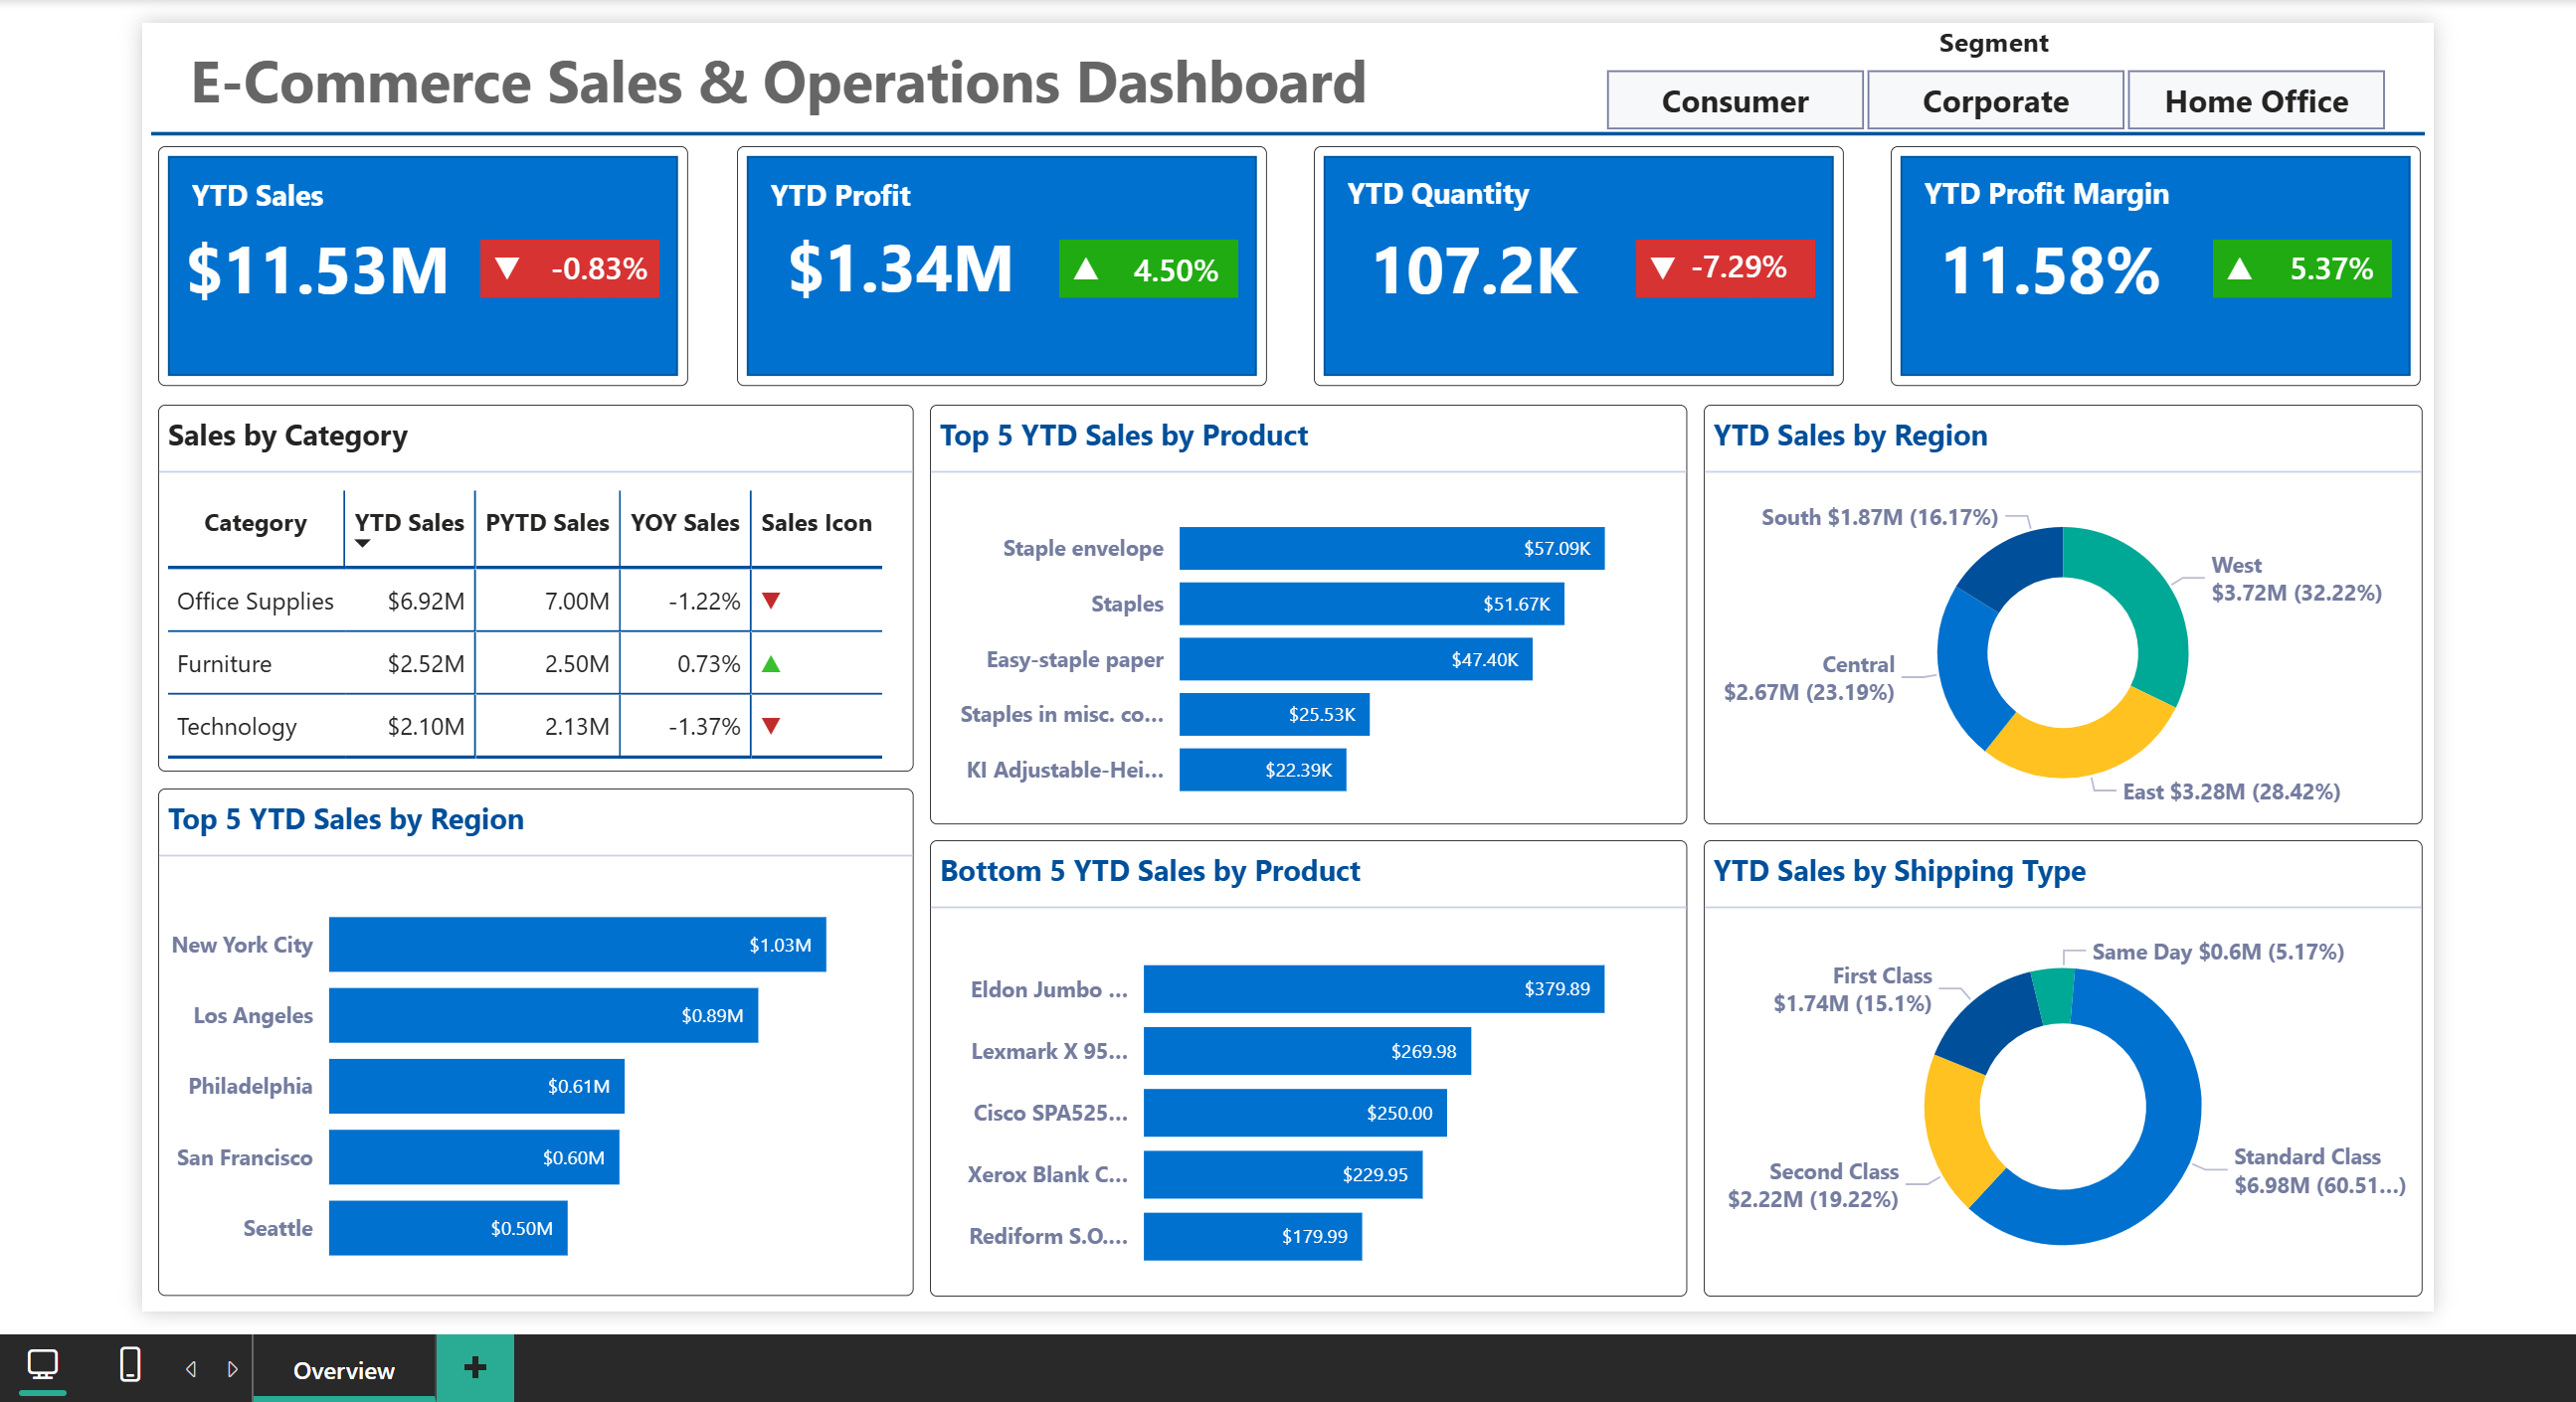

The page's visual inventory and layout, read from the dashboard file:
{"tool":"powerbi","page":{"name":"Overview","canvas":[1280,720],"ordinal":0},"visuals":[{"type":"textbox","box":[16.7,0,682.1,62.8],"z":0},{"type":"shape","box":[976.6,68.8,295.8,133.9],"z":0,"group":"g1"},{"type":"shape","box":[0,56.1,1280,12.7],"z":1000},{"type":"shape","box":[9.1,69.1,295.8,133.9],"z":1000,"group":"g3"},{"type":"card","title":"YTD Sales","fields":{"Values":["ecommerce_data.YTD Profit Margin"]},"box":[976.6,91.8,168.3,89.2],"z":1000,"group":"g1"},{"type":"group","id":"g1","title":"Group 1","box":[976.6,68.8,295.8,133.9],"z":2000},{"type":"card","title":"YTD Sales","fields":{"Values":["ecommerce_data.YTD Sales"]},"box":[9.1,92,168.3,89.2],"z":2000,"group":"g3"},{"type":"shape","box":[1156.1,120.8,100,32.5],"z":2000,"group":"g1"},{"type":"group","id":"g2","title":"Group 2","box":[654.2,69.4,295.8,133.9],"z":3000},{"type":"card","title":"YTD Sales","fields":{"Values":["ecommerce_data.YOY Profit Margin"]},"box":[1180,122.6,76.6,32.5],"z":3000,"group":"g1"},{"type":"group","id":"g3","title":"Group 4","box":[9.1,69.1,296.1,133.8],"z":4000},{"type":"shape","box":[188.6,121,100,32.5],"z":4000,"group":"g3"},{"type":"card","title":"YTD Sales","fields":{"Values":["ecommerce_data.Profit Margin Icon"]},"box":[1156.1,122.1,29.9,32.5],"z":4000,"group":"g1"},{"type":"group","id":"g4","title":"Group 3","box":[331.8,68.5,295.8,133.9],"z":5000},{"type":"textbox","box":[985.2,73.2,171.4,46.8],"z":5000,"group":"g1"},{"type":"card","title":"YTD Sales","fields":{"Values":["ecommerce_data.YOY Sales"]},"box":[212,122.3,76.6,32.5],"z":5000,"group":"g3"},{"type":"card","title":"YTD Sales","fields":{"Values":["ecommerce_data.Sales Icon"]},"box":[188.6,122.3,29.9,32.5],"z":6000,"group":"g3"},{"type":"pivotTable","title":"Sales by Category","fields":{"Rows":["ecommerce_data.category_name"],"Values":["ecommerce_data.YTD Sales","ecommerce_data.PYTD Sales","ecommerce_data.YOY Sales","ecommerce_data.Sales Icon"]},"box":[9.1,213,422.1,205.2],"z":6000},{"type":"textbox","box":[18.5,74.3,106.5,46.8],"z":7000,"group":"g3"},{"type":"barChart","title":"Top 5 YTD Sales by Region ","fields":{"Y":["ecommerce_data.YTD Sales"],"Category":["ecommerce_data.customer_city"]},"box":[9,428.2,421.8,283.3],"z":7000},{"type":"shape","box":[331.8,68.5,295.8,133.9],"z":8000,"group":"g4"},{"type":"barChart","title":"Top 5 YTD Sales by Product","fields":{"Category":["ecommerce_data.product_name"],"Y":["ecommerce_data.YTD Sales"]},"box":[439.7,212.8,423.1,234.6],"z":8000},{"type":"card","title":"YTD Sales","fields":{"Values":["ecommerce_data.YTD Profit"]},"box":[337.2,91,171.8,89.7],"z":9000,"group":"g4"},{"type":"barChart","title":"Bottom 5 YTD Sales by Product","fields":{"Category":["ecommerce_data.product_name"],"Y":["ecommerce_data.YTD Sales"]},"box":[439.7,456.4,423.1,255.1],"z":9000},{"type":"shape","box":[511.3,120.4,100,32.5],"z":10000,"group":"g4"},{"type":"donutChart","title":"YTD Sales by Region","fields":{"Category":["ecommerce_data.customer_region"],"Y":["ecommerce_data.YTD Sales"]},"box":[871.8,212.8,401.3,234.6],"z":10000},{"type":"donutChart","title":"YTD Sales by Shipping Type","fields":{"Y":["ecommerce_data.YTD Sales"],"Category":["ecommerce_data.shipping_type"]},"box":[871.8,456.4,401.3,255.1],"z":10001},{"type":"slicer","title":"Segment","fields":{"Values":["ecommerce_data.customer_segment"]},"box":[792.3,0,484.6,62.8],"z":10002},{"type":"textbox","box":[100,100,300,300],"z":10003},{"type":"card","title":"YTD Sales","fields":{"Values":["ecommerce_data.YOY Profit"]},"box":[534.4,123.4,76.6,32.5],"z":11000,"group":"g4"},{"type":"card","title":"YTD Sales","fields":{"Values":["ecommerce_data.Profit Icon"]},"box":[511.3,121.7,29.9,32.5],"z":12000,"group":"g4"},{"type":"textbox","box":[341.2,73.7,106.5,46.8],"z":13000,"group":"g4"},{"type":"shape","box":[654.2,69.4,295.8,133.9],"z":14000,"group":"g2"},{"type":"card","title":"YTD Sales","fields":{"Values":["ecommerce_data.YTD Quantity"]},"box":[654.2,92.3,168.3,89.2],"z":15000,"group":"g2"},{"type":"shape","box":[833.7,121.3,100,32.5],"z":16000,"group":"g2"},{"type":"card","title":"YTD Sales","fields":{"Values":["ecommerce_data.YOY Quantity"]},"box":[848.8,122.1,76.6,32.5],"z":17000,"group":"g2"},{"type":"card","title":"YTD Sales","fields":{"Values":["ecommerce_data.Quantity Icon"]},"box":[833.7,122.6,29.9,32.5],"z":18000,"group":"g2"},{"type":"textbox","box":[663.1,74.1,129.9,46.8],"z":19000,"group":"g2"}]}

Visuals, with their boxes on the page's 1280x720 design canvas (x1, y1, x2, y2). These are canvas units, not pixel positions in the 2576x1402 screenshot, which may show the page scaled, cropped or inside an application window:
textbox: (x1=17, y1=0, x2=699, y2=63)
shape: (x1=977, y1=69, x2=1272, y2=203)
shape: (x1=0, y1=56, x2=1280, y2=69)
shape: (x1=9, y1=69, x2=305, y2=203)
"YTD Sales" card: (x1=977, y1=92, x2=1145, y2=181)
"Group 1" group: (x1=977, y1=69, x2=1272, y2=203)
"YTD Sales" card: (x1=9, y1=92, x2=177, y2=181)
shape: (x1=1156, y1=121, x2=1256, y2=153)
"Group 2" group: (x1=654, y1=69, x2=950, y2=203)
"YTD Sales" card: (x1=1180, y1=123, x2=1257, y2=155)
"Group 4" group: (x1=9, y1=69, x2=305, y2=203)
shape: (x1=189, y1=121, x2=289, y2=154)
"YTD Sales" card: (x1=1156, y1=122, x2=1186, y2=155)
"Group 3" group: (x1=332, y1=68, x2=628, y2=202)
textbox: (x1=985, y1=73, x2=1157, y2=120)
"YTD Sales" card: (x1=212, y1=122, x2=289, y2=155)
"YTD Sales" card: (x1=189, y1=122, x2=218, y2=155)
"Sales by Category" pivotTable: (x1=9, y1=213, x2=431, y2=418)
textbox: (x1=18, y1=74, x2=125, y2=121)
"Top 5 YTD Sales by Region " barChart: (x1=9, y1=428, x2=431, y2=712)
shape: (x1=332, y1=68, x2=628, y2=202)
"Top 5 YTD Sales by Product" barChart: (x1=440, y1=213, x2=863, y2=447)
"YTD Sales" card: (x1=337, y1=91, x2=509, y2=181)
"Bottom 5 YTD Sales by Product" barChart: (x1=440, y1=456, x2=863, y2=712)
shape: (x1=511, y1=120, x2=611, y2=153)
"YTD Sales by Region" donutChart: (x1=872, y1=213, x2=1273, y2=447)
"YTD Sales by Shipping Type" donutChart: (x1=872, y1=456, x2=1273, y2=712)
"Segment" slicer: (x1=792, y1=0, x2=1277, y2=63)
textbox: (x1=100, y1=100, x2=400, y2=400)
"YTD Sales" card: (x1=534, y1=123, x2=611, y2=156)
"YTD Sales" card: (x1=511, y1=122, x2=541, y2=154)
textbox: (x1=341, y1=74, x2=448, y2=120)
shape: (x1=654, y1=69, x2=950, y2=203)
"YTD Sales" card: (x1=654, y1=92, x2=822, y2=182)
shape: (x1=834, y1=121, x2=934, y2=154)
"YTD Sales" card: (x1=849, y1=122, x2=925, y2=155)
"YTD Sales" card: (x1=834, y1=123, x2=864, y2=155)
textbox: (x1=663, y1=74, x2=793, y2=121)
